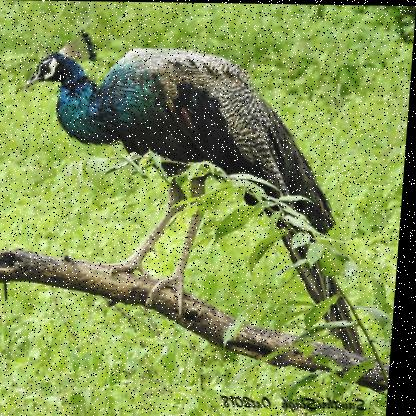Burung: (11, 28, 389, 354)
